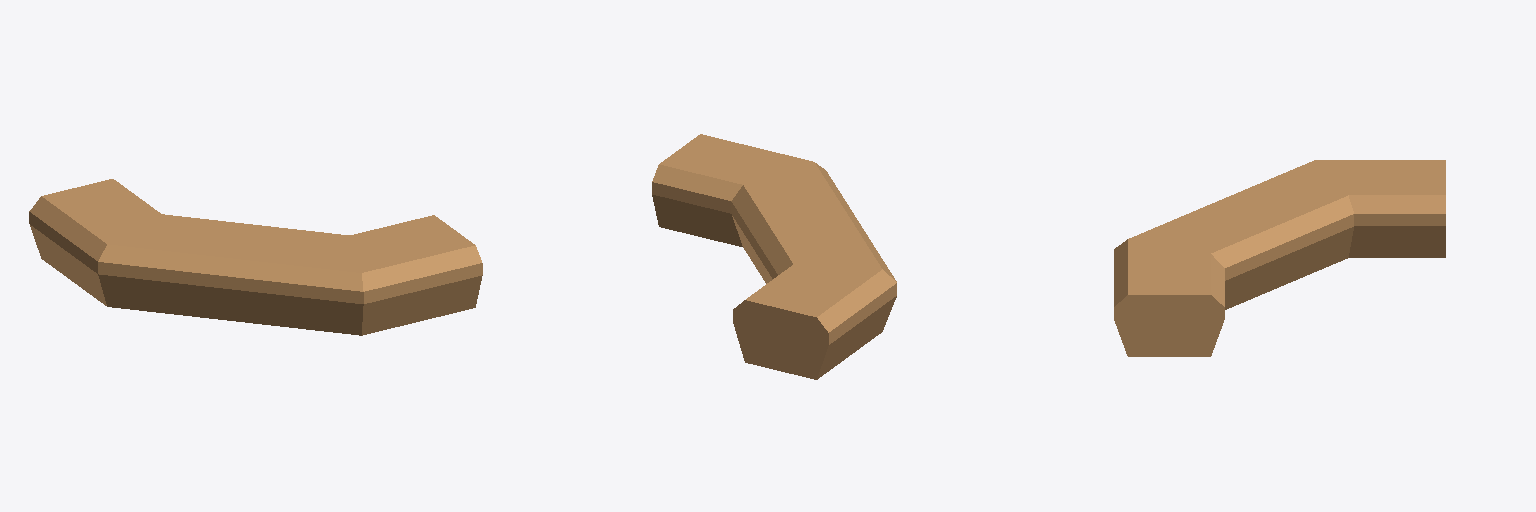
File: Wall_Curved_Small_Top.obj
3 views of the same model, side by side, from view 1: azimuth 30°, elevation 25°; view 2: azimuth 150°, elevation 25°; view 3: azimuth 270°, elevation 25° (orthographic).
Visible parts, largest first — view 1: object1; view 2: object1; view 3: object1.
Boxes of the visible parts, <box> form: object1: <box>29,179,482,335</box>; object1: <box>652,134,896,379</box>; object1: <box>1114,160,1445,356</box>.
Bounding box in the file's own units: 1.2 × 0.25 × 1.2.